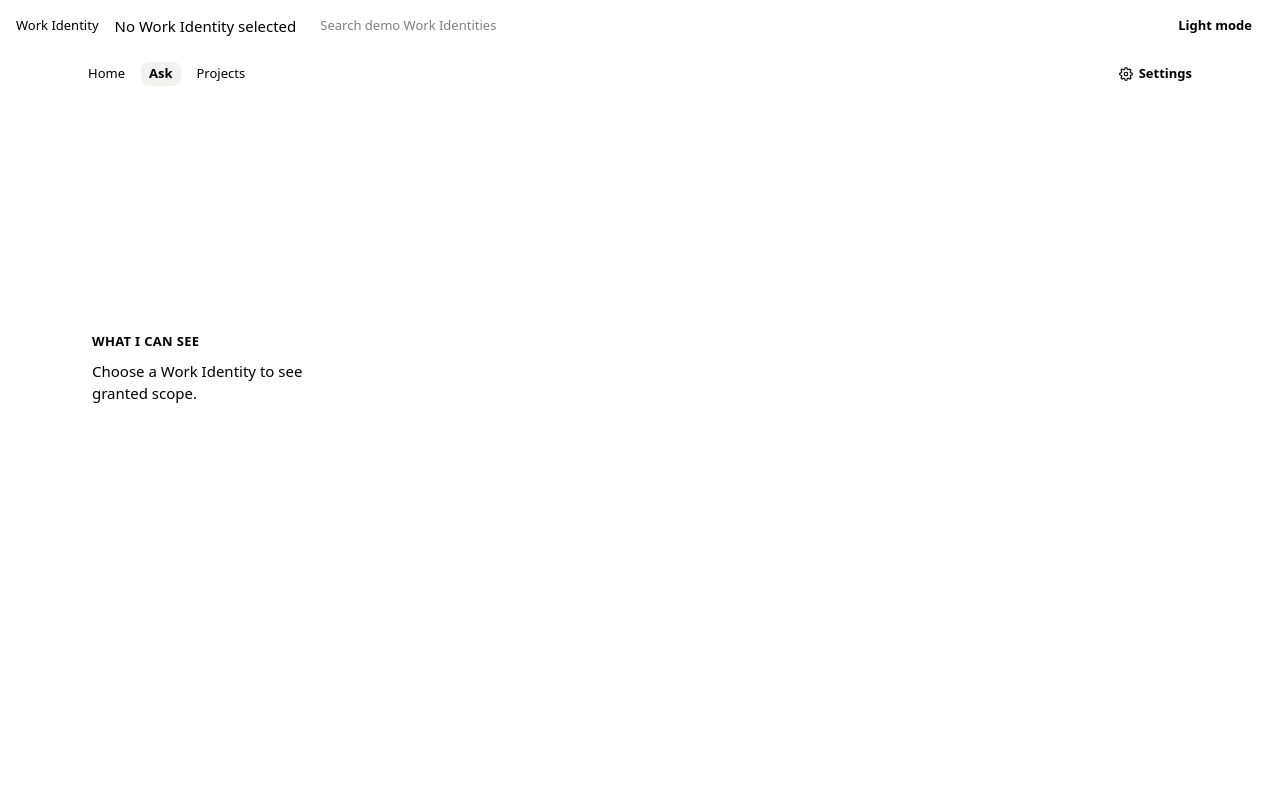
SHOW-6: the role-aware shell › the settings drawer carries My Access, Appearance, and Identity — with focus trap
Click the button with test id "settings-open": (1155, 74) [1111,58,1200,90]
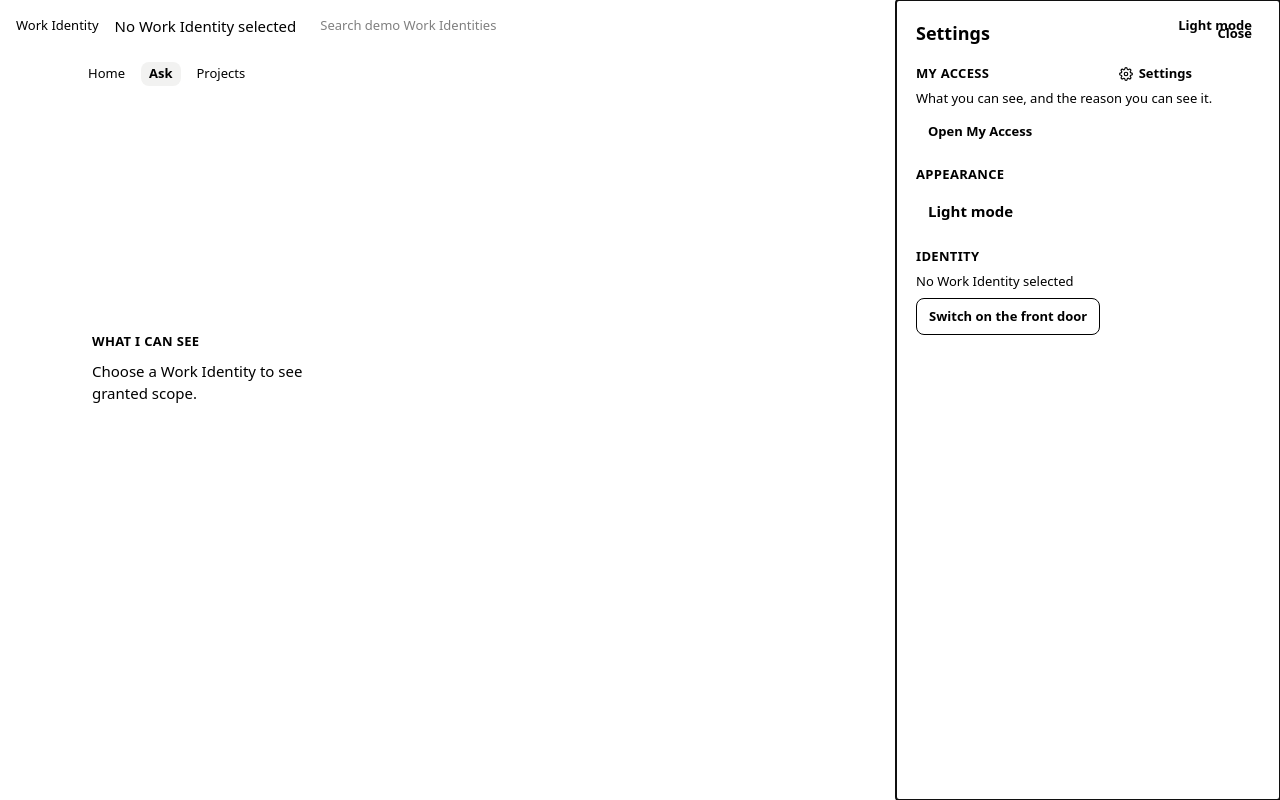
Expected: the element with test id "settings-my-access" is shown, [916,64,1260,149]
Expected: the element with test id "settings-appearance" is shown, [916,165,1025,231]
Expected: the element with test id "settings-identity" is shown, [916,247,1100,335]
Note: Escape closes.
Press Escape in the dialog with test id "settings-drawer", box [916,20,1260,335]
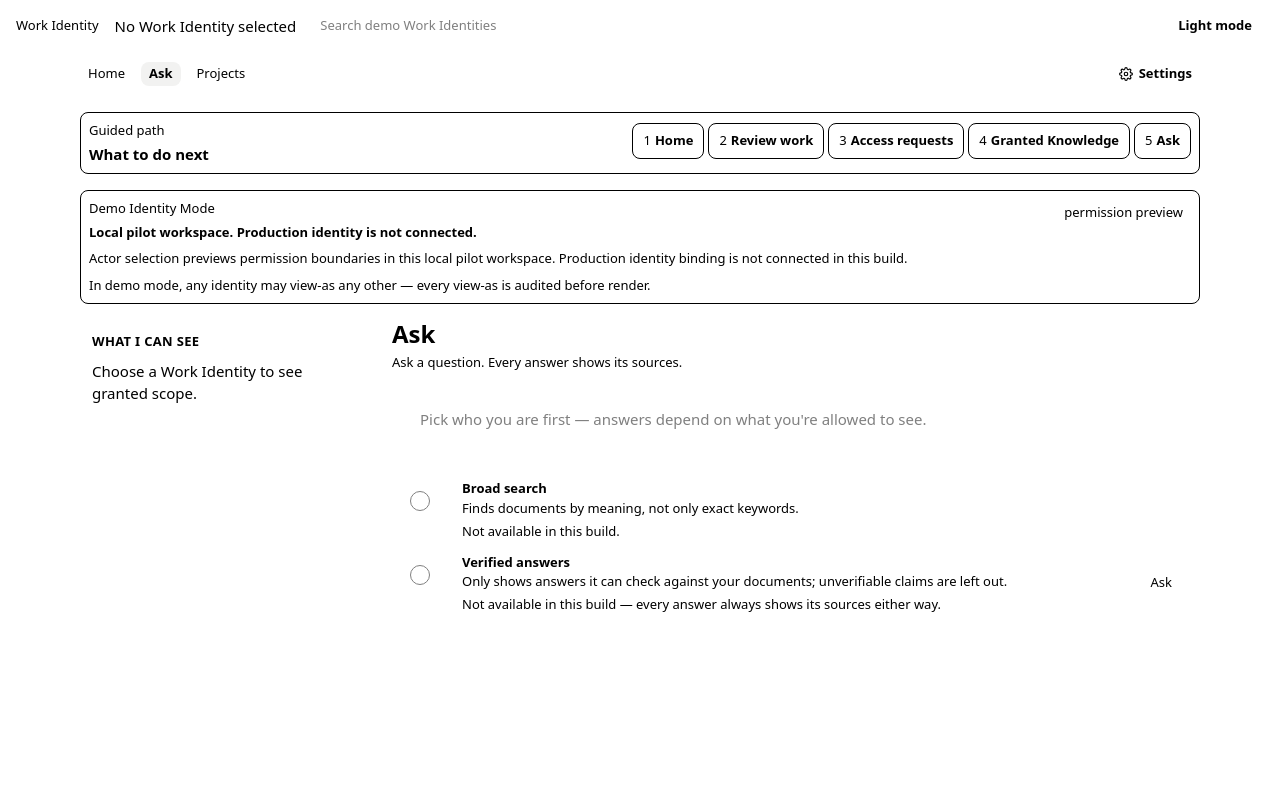
Expected: the dialog with test id "settings-drawer" is gone
